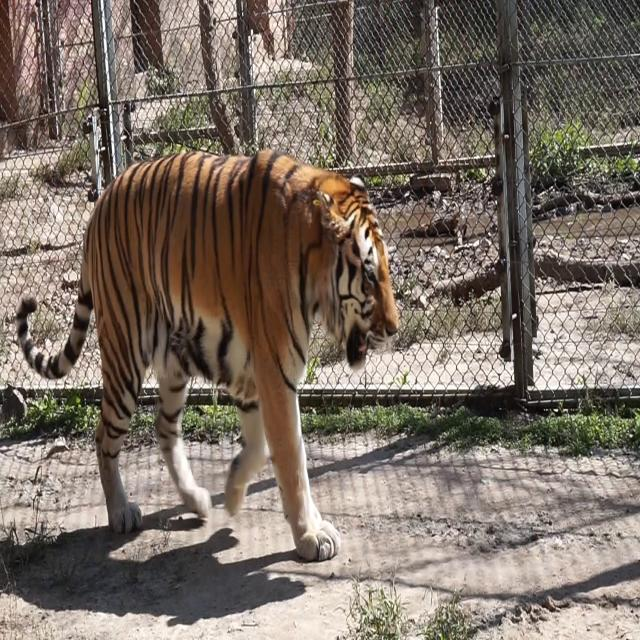Tiger: (8, 86, 412, 639)
